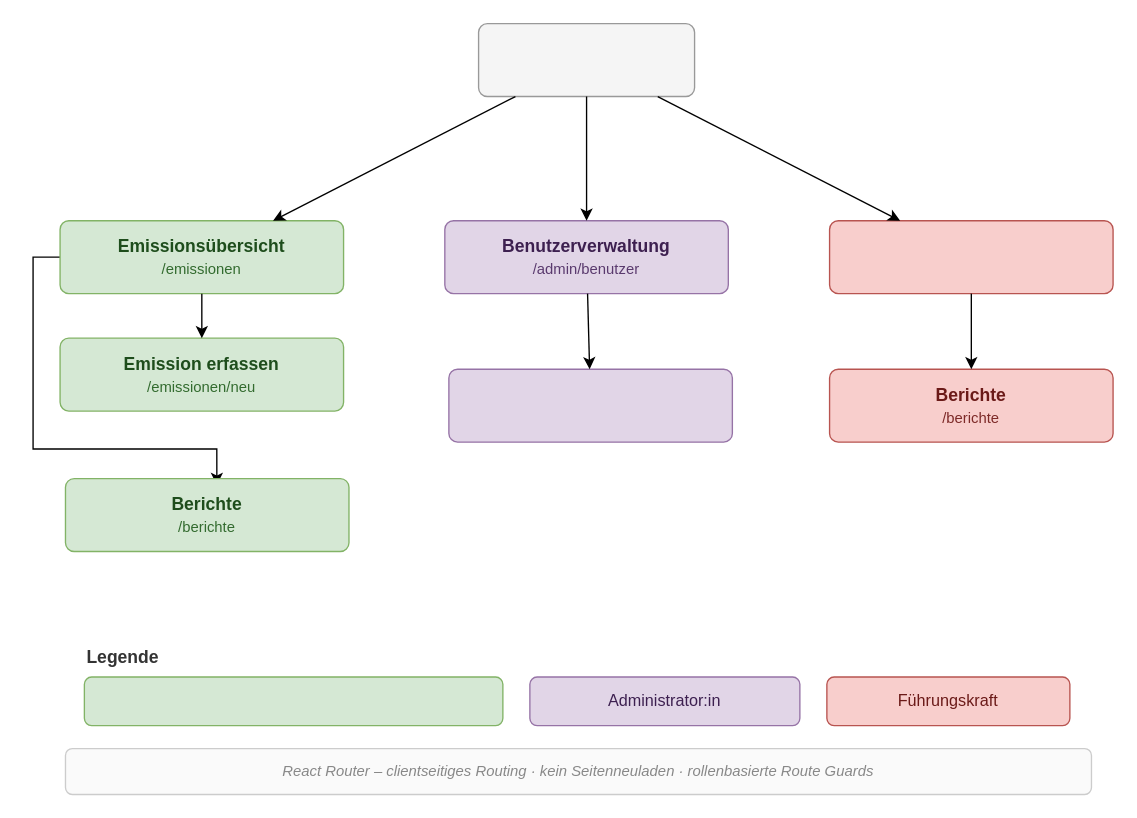
This 1137x818 diagram has some shape labels left out. Here are the shapes that lost their labels. From the top down, the box of each, then its label:
(477, 22, 695, 97): Login /login
(828, 219, 1113, 294): Dashboard /dashboard
(448, 368, 732, 442): Standortverwaltung /admin/standorte
(83, 676, 503, 726): Nachhaltigkeitsbeauftragte:r / Benutzer:in
